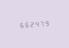four: (33, 20, 37, 27)
nine: (43, 19, 47, 27)
seven: (38, 19, 42, 27)
six: (22, 20, 26, 28), (17, 21, 21, 28)
two: (28, 20, 32, 28)
